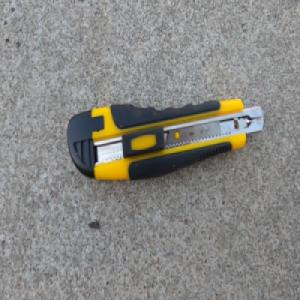Cutter: (65, 96, 264, 181)
